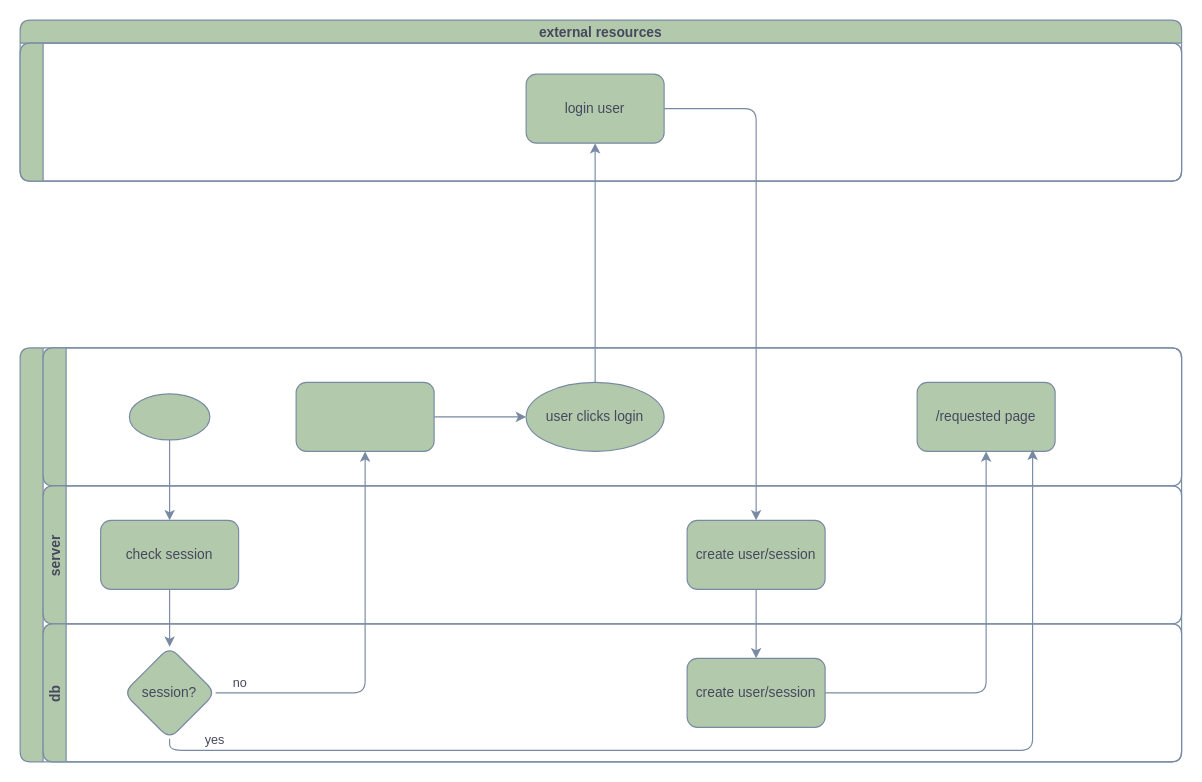
The diagram is 1202 pixels wide and 782 high, and some of its shapes have lost their labels. Each missing label, with the box of its shape:
/landing: (295, 381, 434, 451)
azureAD: (19, 42, 1182, 181)
client: (42, 347, 1182, 486)
dseng: (19, 347, 1182, 762)
request page: (128, 393, 210, 440)
